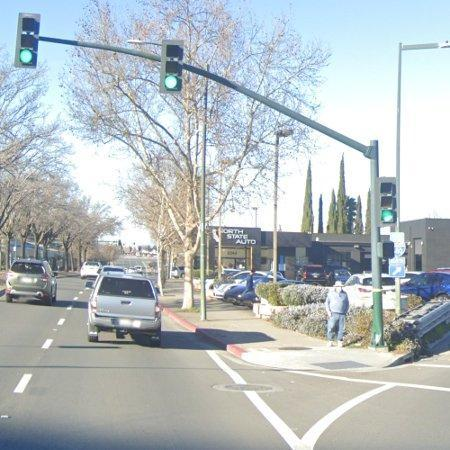traffic lights: (14, 13, 41, 68), (158, 40, 184, 96), (376, 177, 400, 228)
